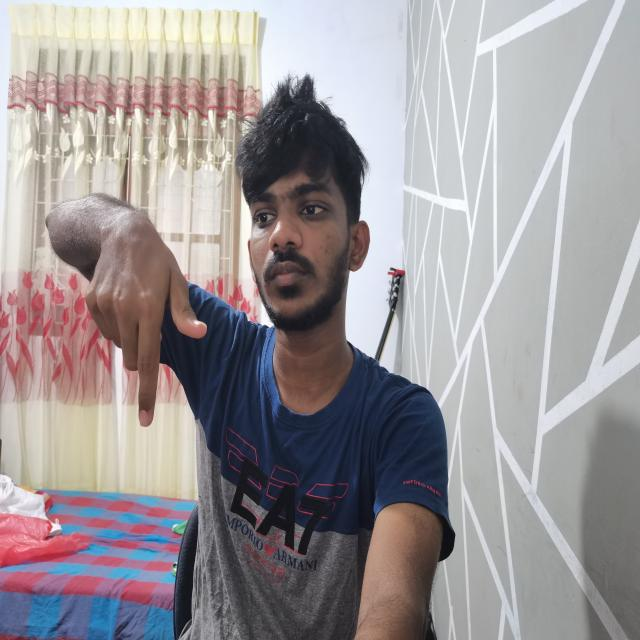Yes: (29, 178, 216, 437)
